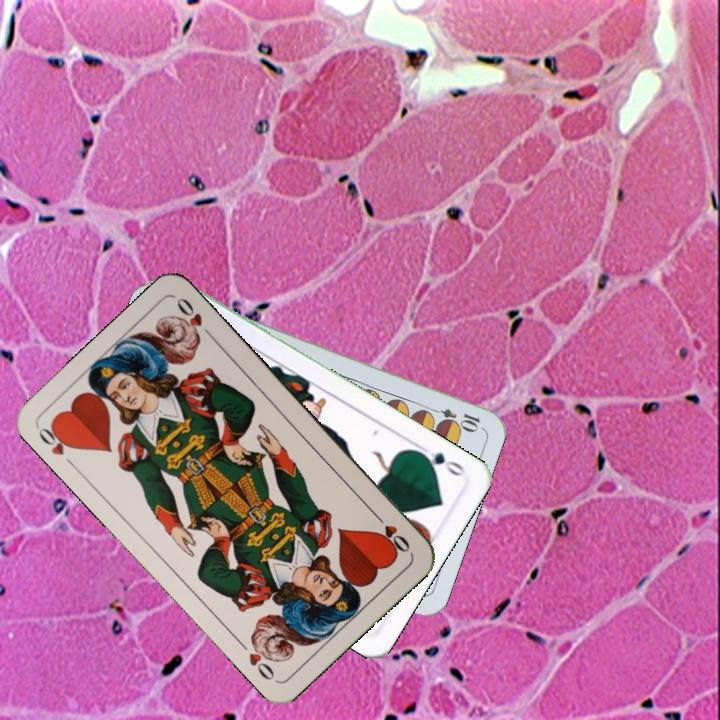E10: (424, 403, 483, 432)
GO: (412, 440, 467, 479)
HO: (369, 508, 413, 555), (34, 419, 78, 458)
